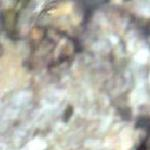alive: (6, 2, 147, 147)
